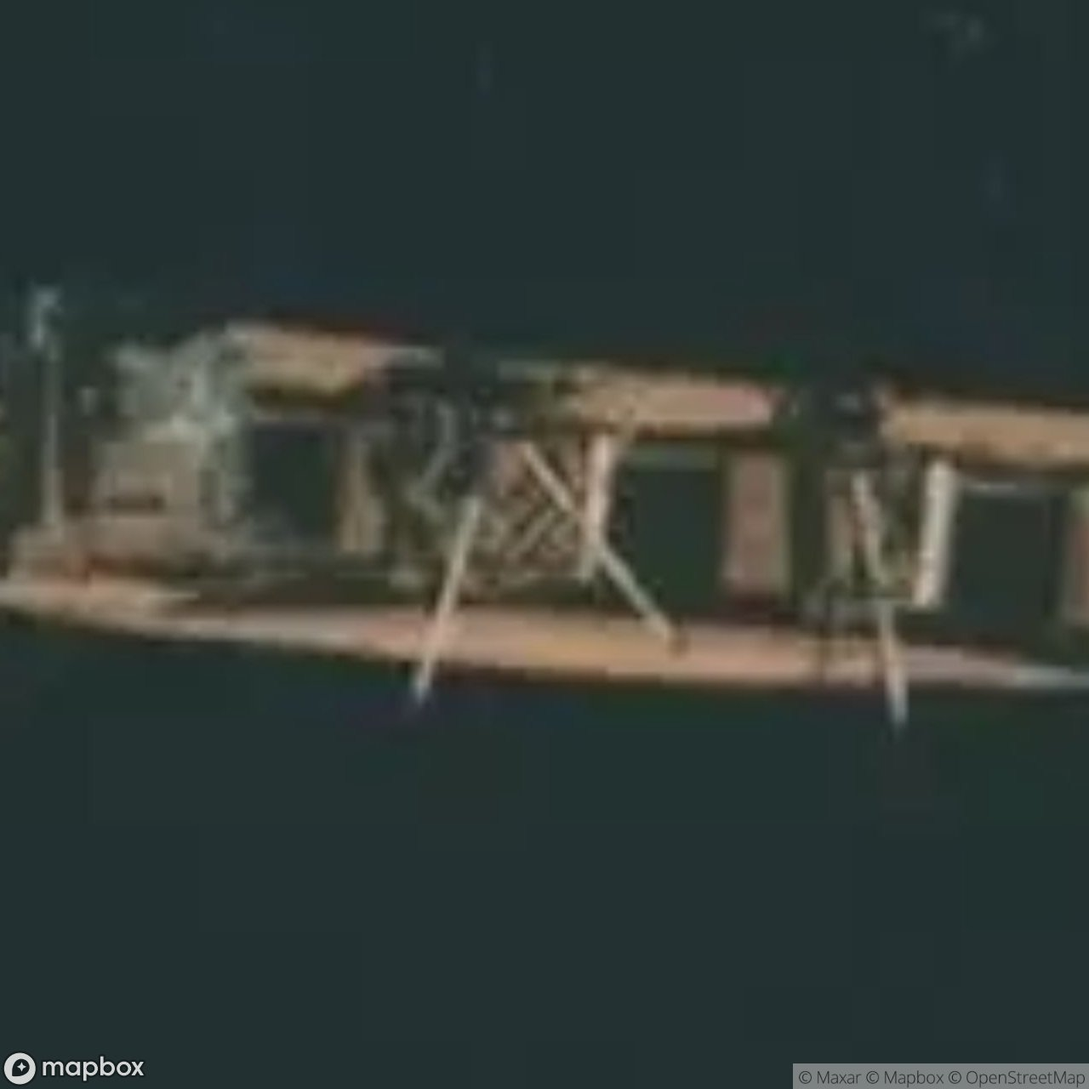Wreck: (8, 287, 1089, 753)
